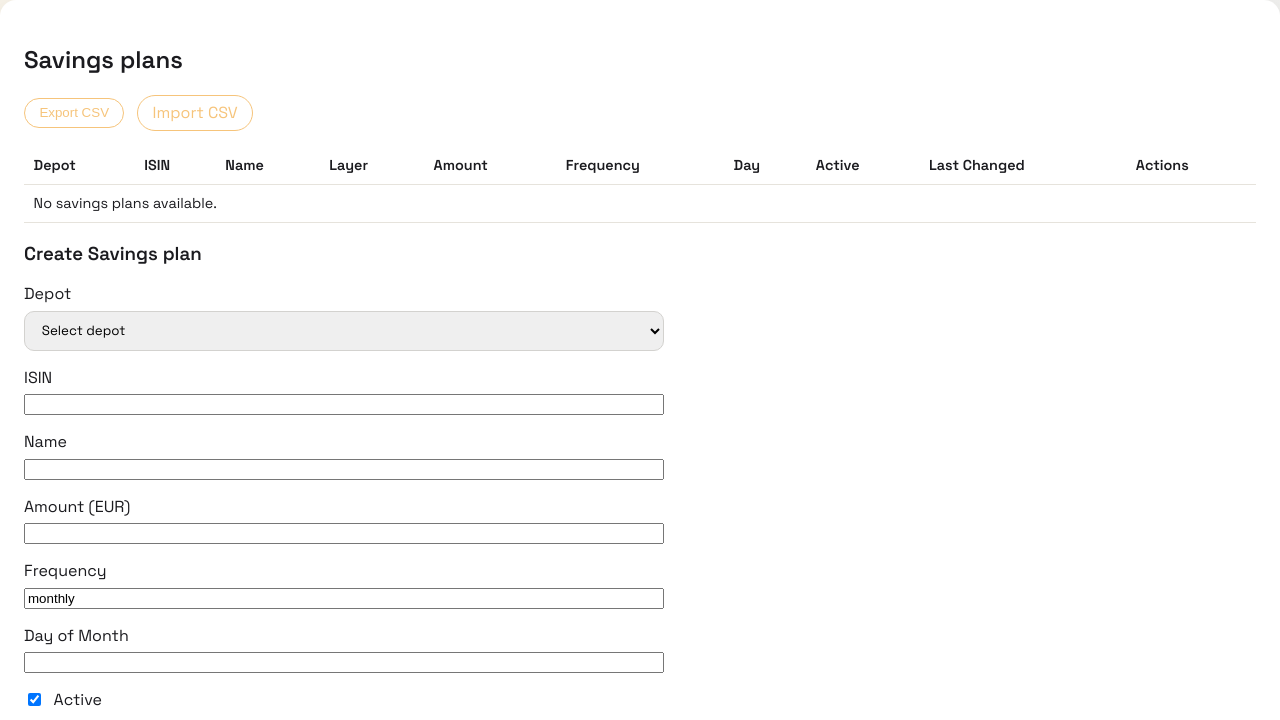
Test case: SavingsPlansView › creates a saving plan for an ISIN without an instrument when backend materializes it
The image size is (1280, 720).
Select "tr - Trade Republic" in the dropdown labelled "Depot" at [344, 331], box [24, 311, 664, 351]
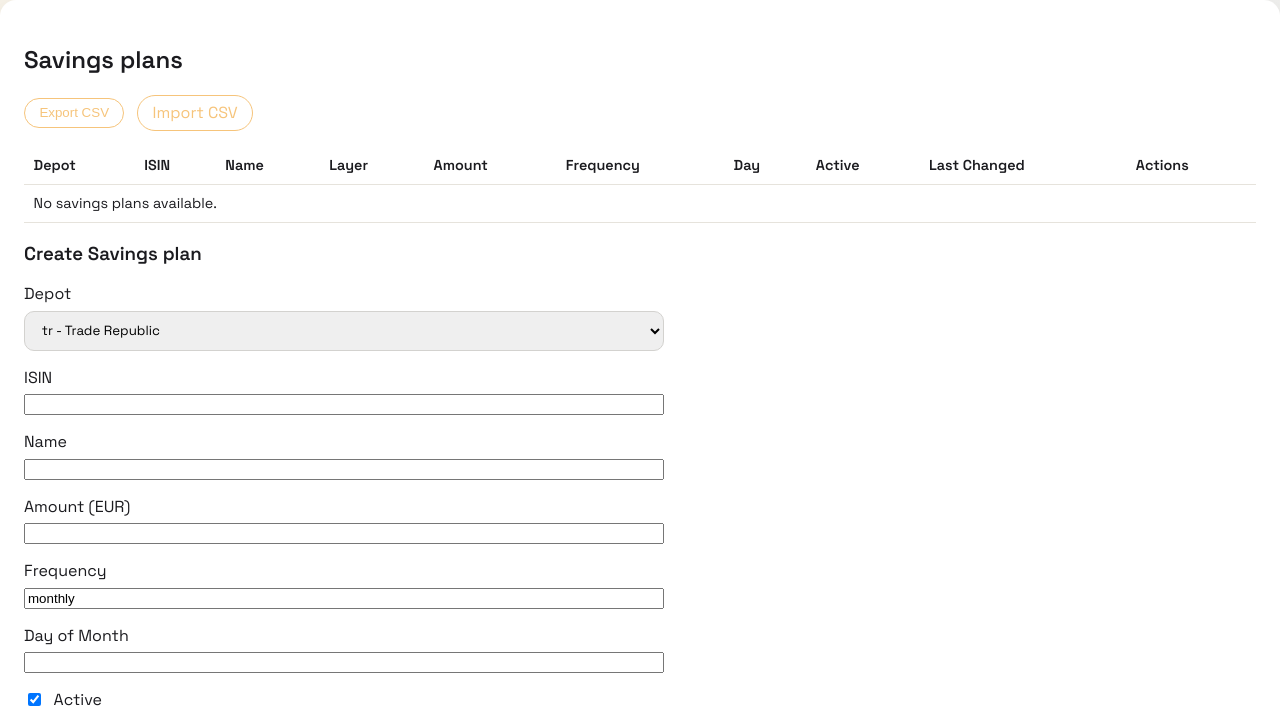
Type "LU0000001001" into the field labelled "ISIN" at [344, 405], box [24, 394, 664, 415]
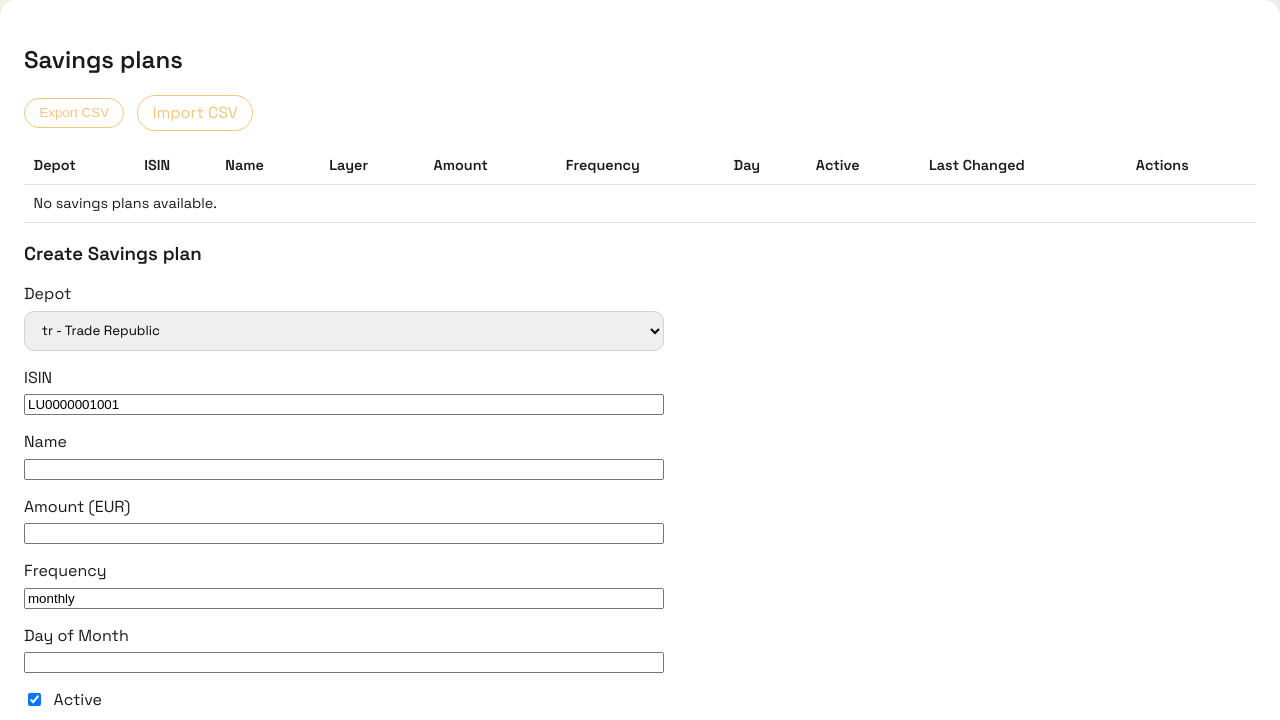
Type "Synthetic ETF" into the field labelled "Name" at [344, 469], box [24, 459, 664, 480]
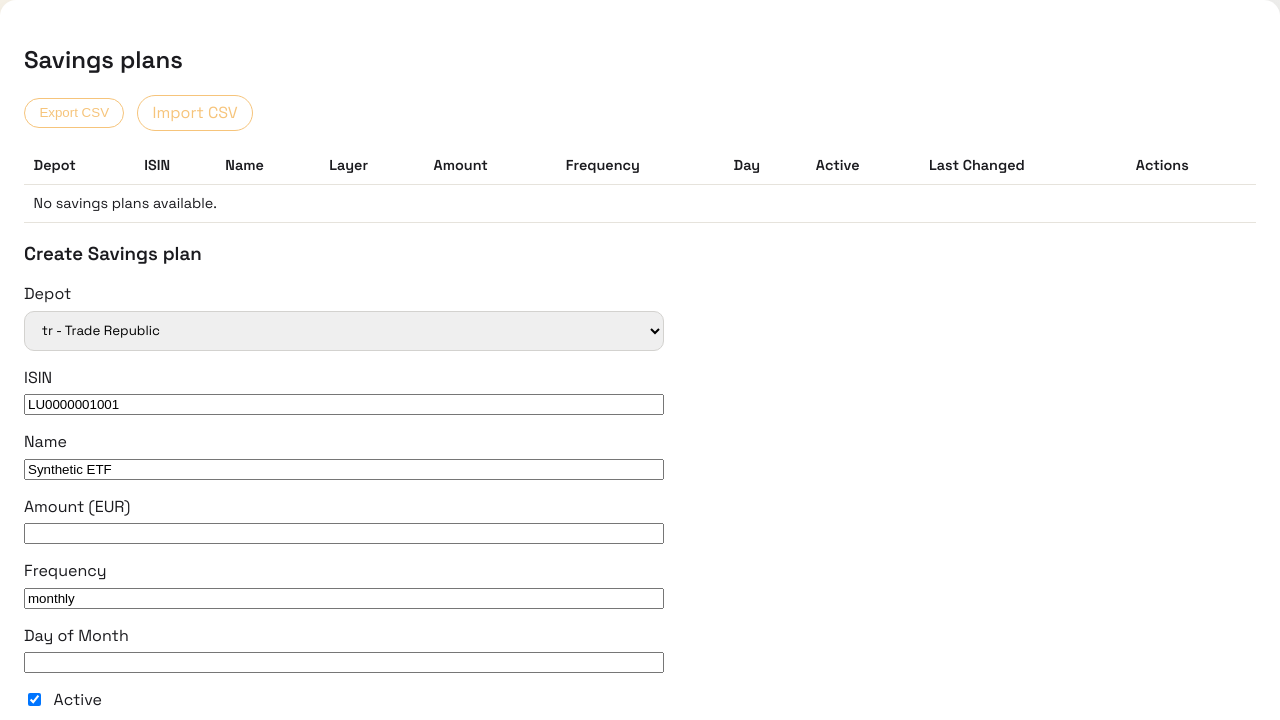
Type "25" into the number field labelled "Amount (EUR)" at [344, 534], box [24, 523, 664, 544]
(page scrolled)
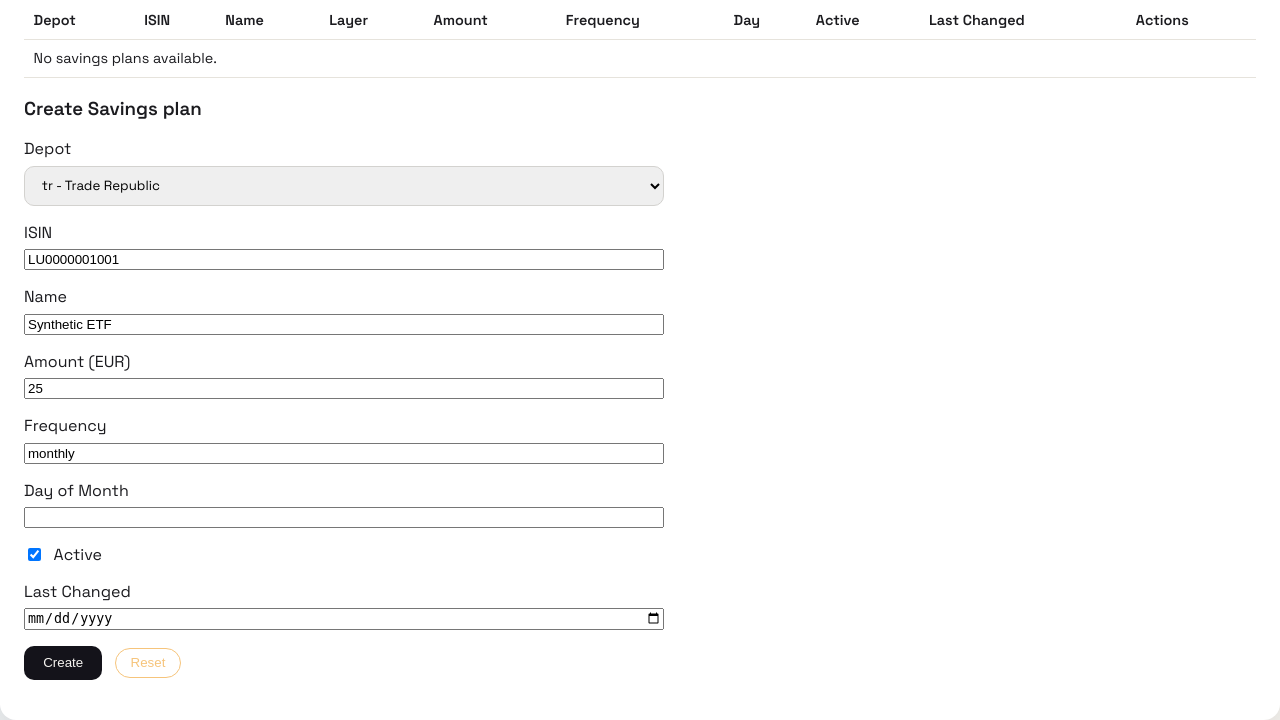
Submit the form, box [24, 138, 664, 696]
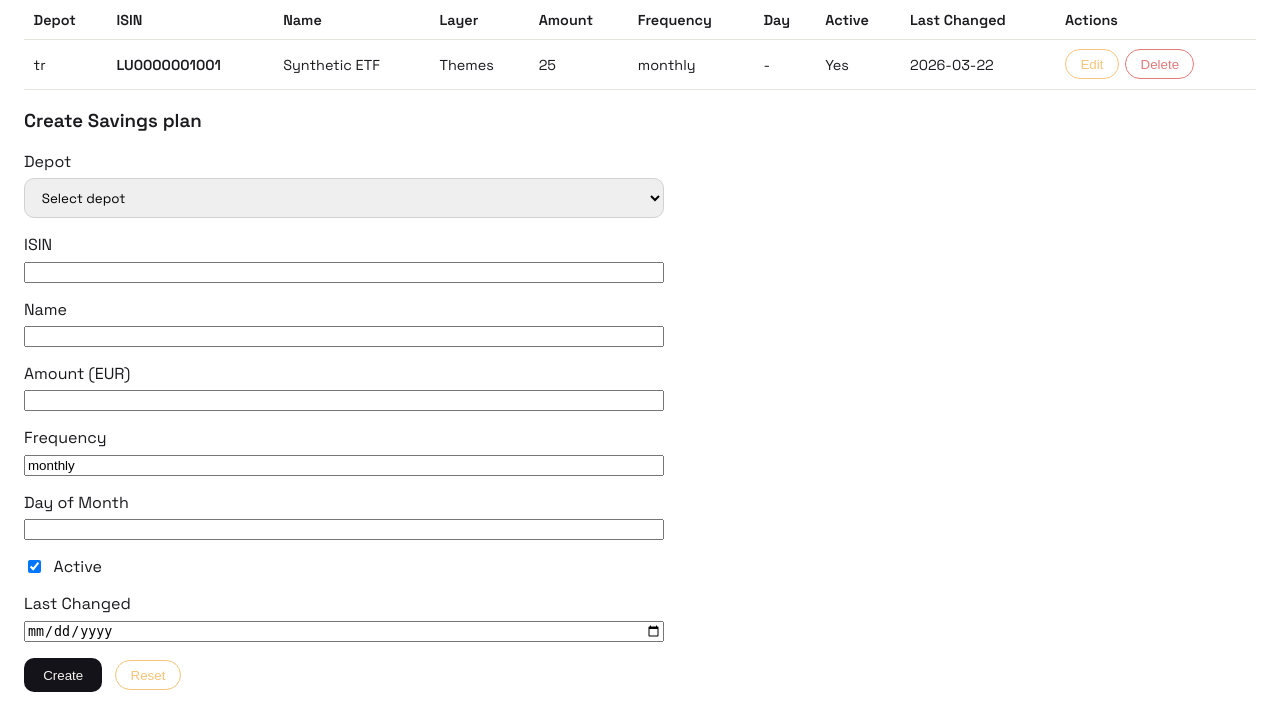
Now the text "Synthetic ETF" is shown, box [274, 40, 430, 90]
Now the text "Themes" is shown, box [430, 40, 529, 90]
